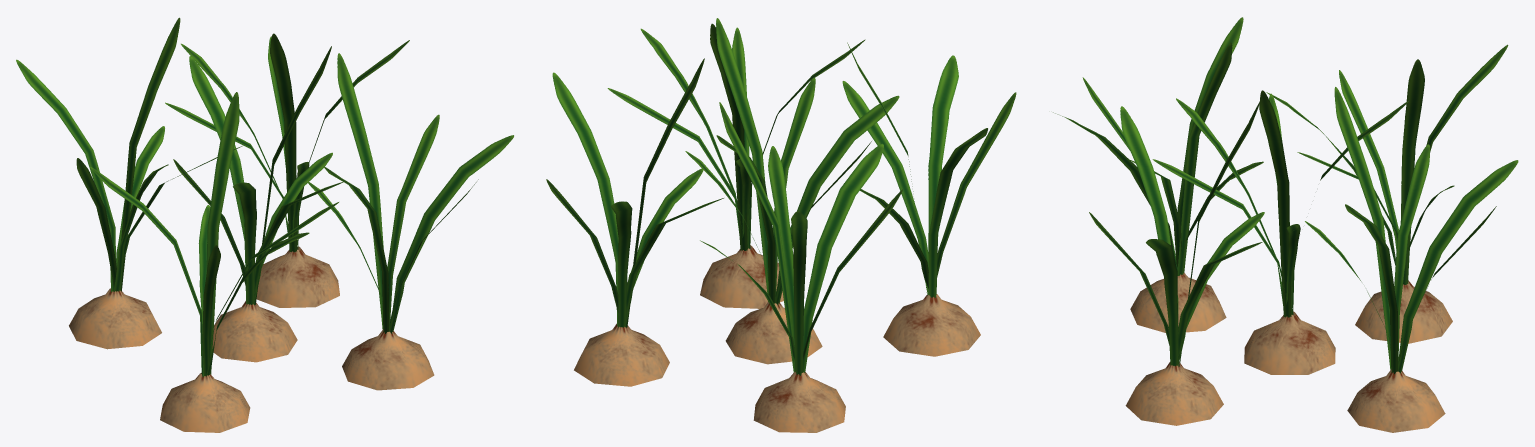
File: plant_10.gltf
3 views of the same model, side by side, from view 1: azimuth 30°, elevation 25°; view 2: azimuth 150°, elevation 25°; view 3: azimuth 270°, elevation 25° (orthographic). The views are drawn at different scales.
Visible parts, largest first — view 1: Onion_Plants_0; view 2: Onion_Plants_0; view 3: Onion_Plants_0.
Boxes of the visible parts, left/top/right/bottom form: Onion_Plants_0: left=16, top=17, right=513, bottom=432; Onion_Plants_0: left=546, top=18, right=1016, bottom=432; Onion_Plants_0: left=1053, top=17, right=1518, bottom=432.
Size of the model in its own units: 1.25 by 0.9314 by 1.29.
Materials: 1 (1 with a texture image).
